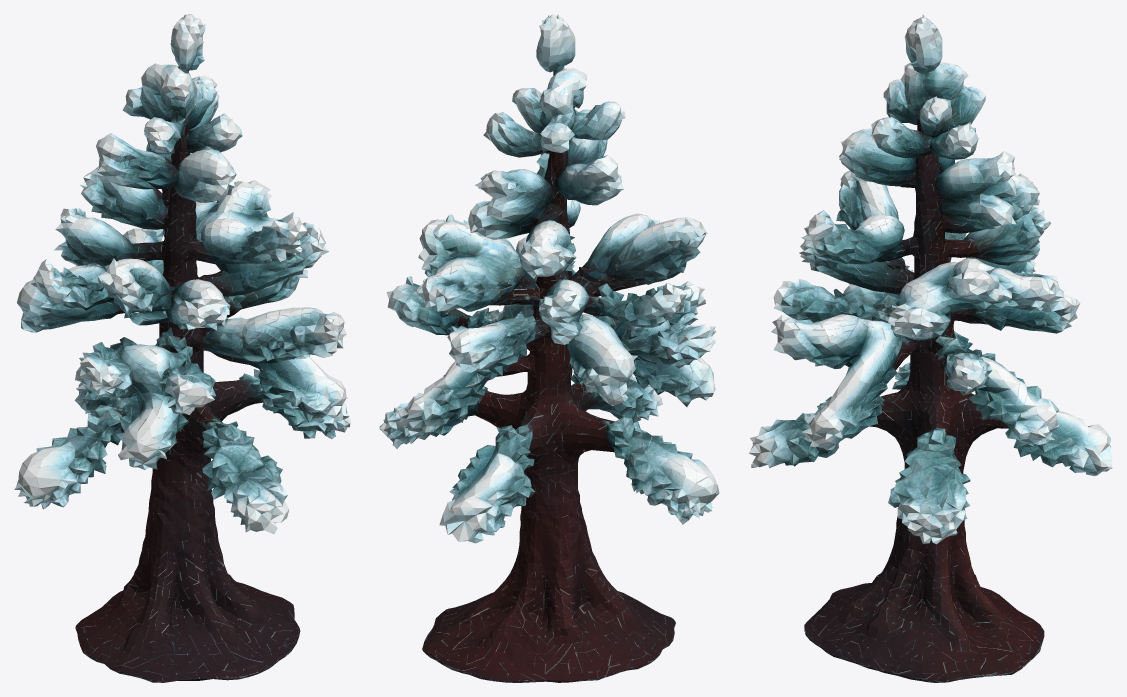
File: ice-tree.glb
The picture shows the model from 3 angles, left to right: view 1: azimuth 30°, elevation 25°; view 2: azimuth 150°, elevation 25°; view 3: azimuth 270°, elevation 25°; orthographic projection.
Bounding box in the file's own units: 4.38 × 8 × 4.28.
1 material, 1 textured.
